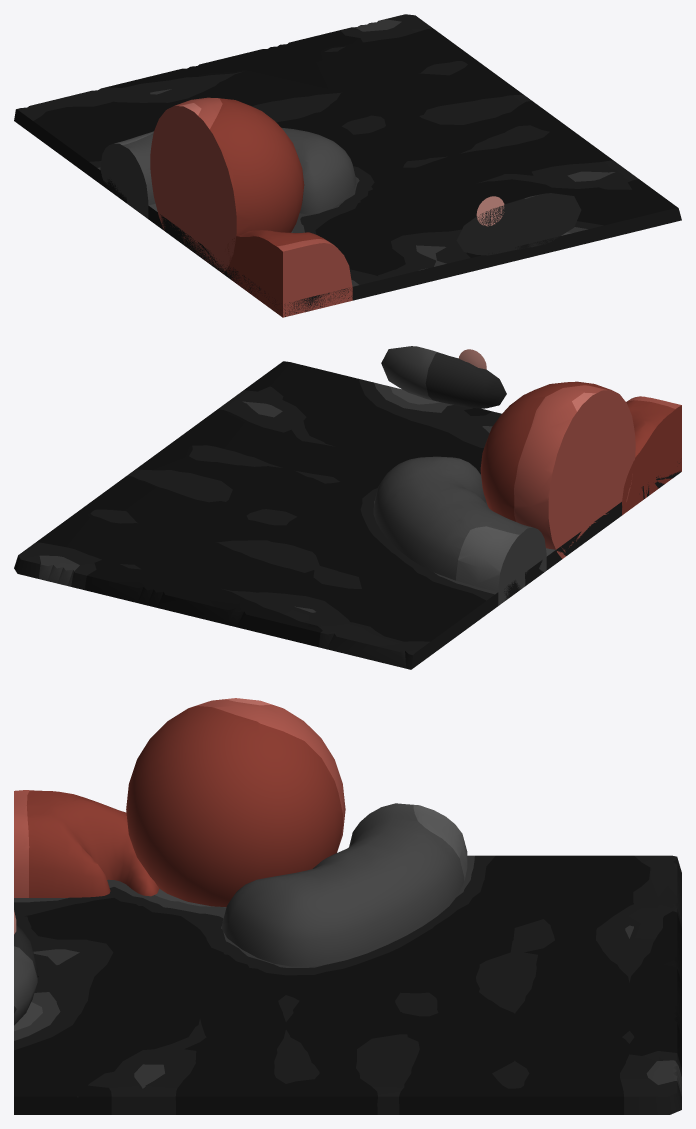
The model's file is brick_bulb_tr.glb.
The picture shows the model from 3 angles, top to bottom: view 1: azimuth 30°, elevation 25°; view 2: azimuth 150°, elevation 25°; view 3: azimuth 270°, elevation 25°; orthographic projection. The views are drawn at different scales.
Visible parts, largest first — view 1: wall, bulb, stalk, hood, ring_r, piston_r; view 2: wall, bulb, hood, ring_r, stalk; view 3: wall, bulb, hood, stalk, ring_r.
Part boxes in pixels (x1,y1,x2,y2): wall: (14,14,681,316); bulb: (150,97,304,273); stalk: (224,230,352,317); hood: (100,127,356,218); ring_r: (456,193,581,255); piston_r: (476,196,504,226); wall: (14,361,680,669); bulb: (480,381,635,558); hood: (373,456,546,605); ring_r: (381,346,506,408); stalk: (622,396,681,515); wall: (14,855,681,1114); bulb: (126,698,345,907); hood: (222,803,467,966); stalk: (14,790,159,897); ring_r: (14,925,37,1025).
Size of the model in its own units: 24 by 8.2 by 28.
